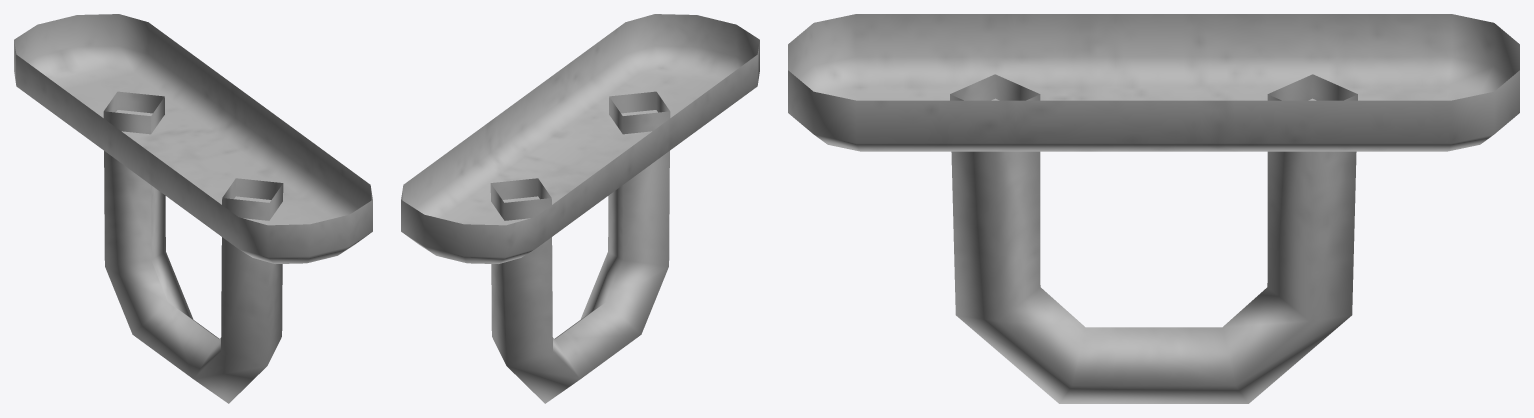
File: SM_Fluorescent_Light_Roof_Hook_01a.fbx
3 views of the same model, side by side, from view 1: azimuth 30°, elevation 25°; view 2: azimuth 150°, elevation 25°; view 3: azimuth 270°, elevation 25° (orthographic). The views are drawn at different scales.
Visible parts, largest first — view 1: SM_Fluorescent_Light_Roof_Hook_01a_LOD0; view 2: SM_Fluorescent_Light_Roof_Hook_01a_LOD0; view 3: SM_Fluorescent_Light_Roof_Hook_01a_LOD0.
Boxes of the visible parts, left/top/right/bottom form: SM_Fluorescent_Light_Roof_Hook_01a_LOD0: left=14, top=14, right=372, bottom=403; SM_Fluorescent_Light_Roof_Hook_01a_LOD0: left=401, top=14, right=759, bottom=403; SM_Fluorescent_Light_Roof_Hook_01a_LOD0: left=788, top=14, right=1519, bottom=403.
Size of the model in its own units: 0.9666 by 3.45 by 1.81.
